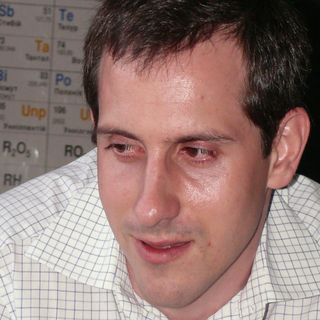eye: (172, 140, 220, 164), (106, 136, 149, 157)
